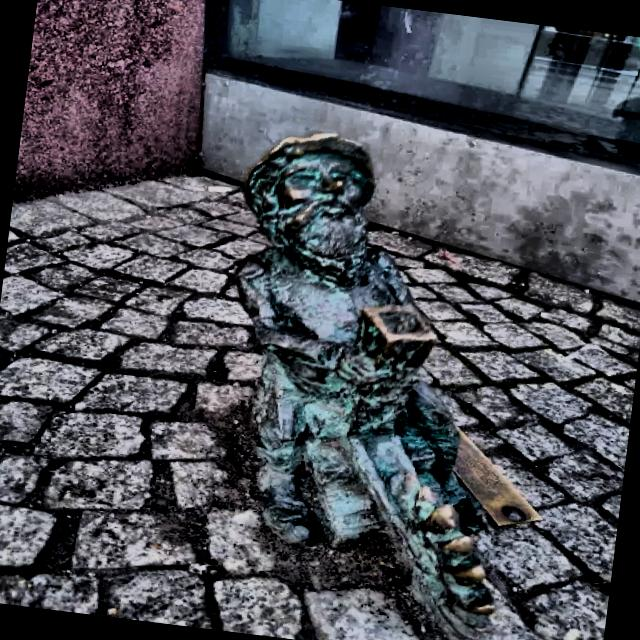Automatek: (237, 133, 495, 637)
